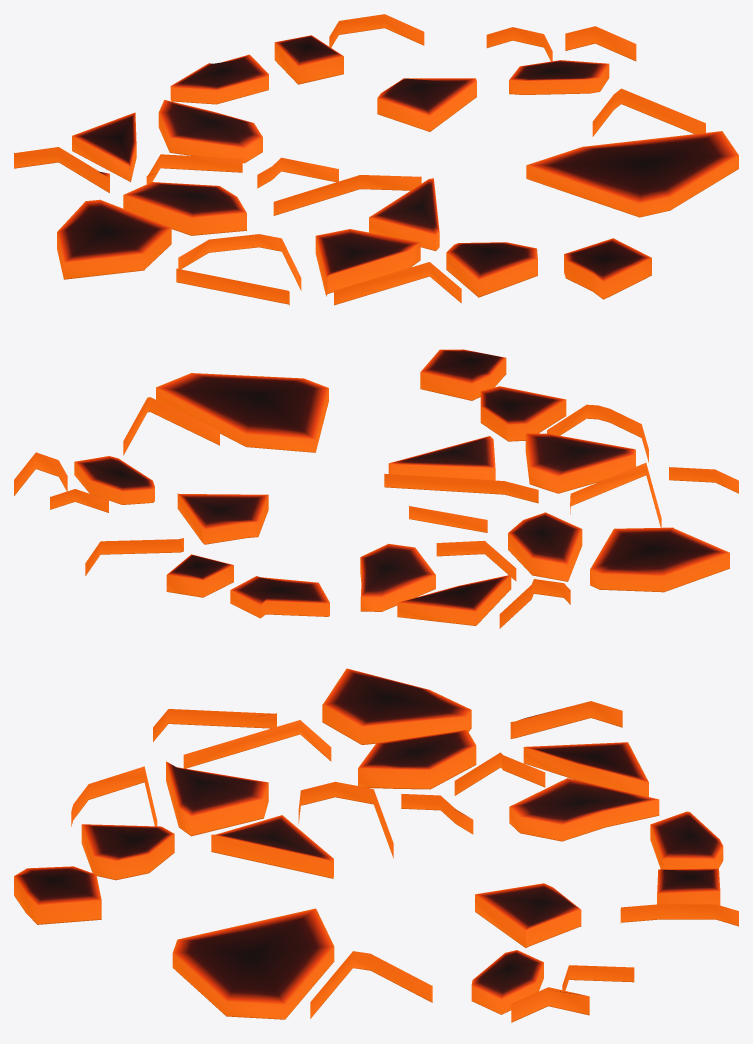
File: lava_crust.glb
3 views of the same model, one above another, from view 1: azimuth 30°, elevation 25°; view 2: azimuth 150°, elevation 25°; view 3: azimuth 270°, elevation 25° (orthographic). The views are drawn at different scales.
Bounding box in the file's own units: 24.58 × 0.9119 × 21.77.
